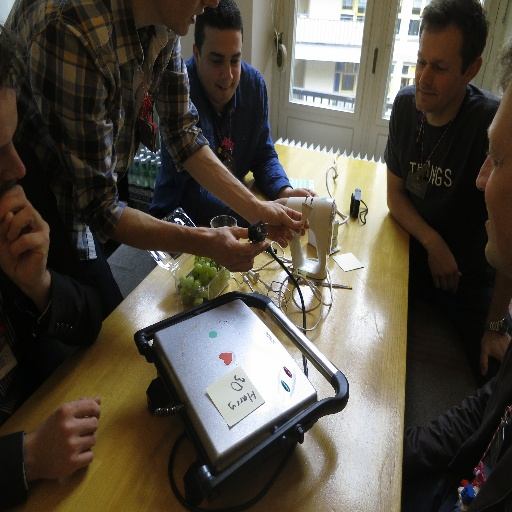hand: (29, 400, 105, 486), (0, 184, 50, 293), (211, 223, 268, 272), (256, 200, 311, 249), (425, 237, 463, 293), (479, 328, 511, 378), (284, 186, 319, 200)
